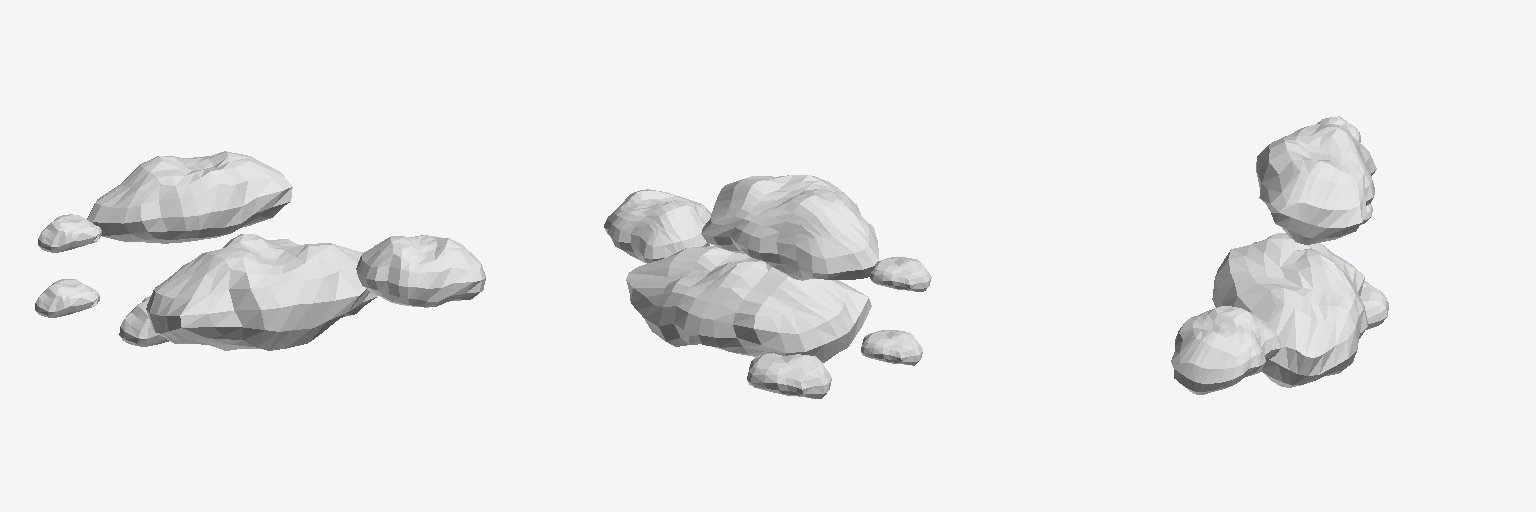
Rendered from cloudR.obj.
The picture shows the model from 3 angles: view 1: azimuth 30°, elevation 25°; view 2: azimuth 150°, elevation 25°; view 3: azimuth 270°, elevation 25°; orthographic projection.
Parts seen in each view (by area): view 1: cloud; view 2: cloud; view 3: cloud.
Part boxes in pixels (x1,y1,x2,y2): cloud: (35, 151, 485, 350); cloud: (604, 175, 931, 398); cloud: (1171, 116, 1388, 394).
Bounding box in the file's own units: 170 × 82.39 × 85.62.